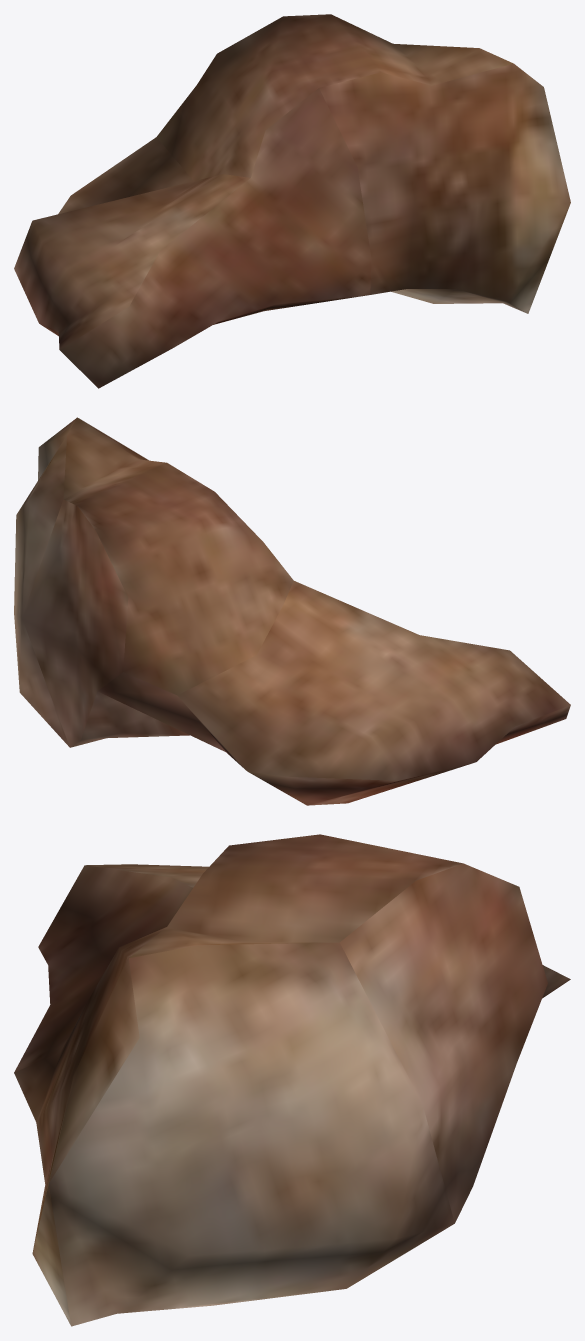
The picture shows the model from 3 angles, top to bottom: view 1: azimuth 30°, elevation 25°; view 2: azimuth 150°, elevation 25°; view 3: azimuth 270°, elevation 25°; orthographic projection. The views are drawn at different scales.
Parts seen in each view (by area): view 1: stone_01_lod2; view 2: stone_01_lod2; view 3: stone_01_lod2.
Part boxes in pixels (<box>): stone_01_lod2: <box>14,14,570,388</box>; stone_01_lod2: <box>14,417,570,805</box>; stone_01_lod2: <box>14,834,570,1326</box>.
Bounding box in the file's own units: 0.1416 × 0.0686 × 0.0875.
1 material, 1 textured.
